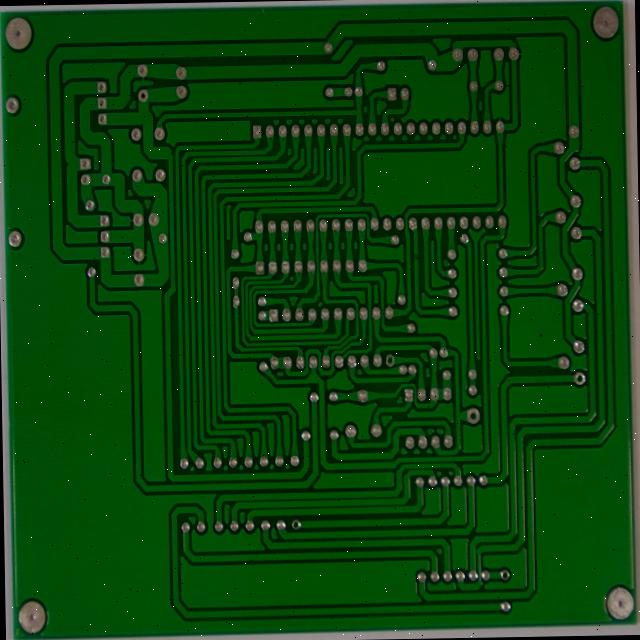missing_hole: (458, 395, 479, 417), (375, 339, 390, 359), (571, 359, 586, 378), (279, 512, 294, 527), (495, 566, 507, 579)
